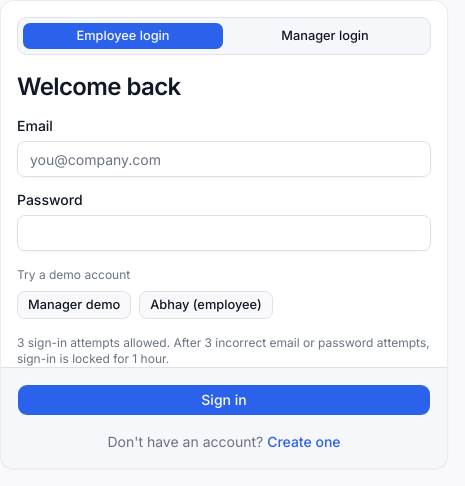
Test: <LoginForm /> › fills Abhay's employee demo credentials when selected
Click the button "Abhay (employee)" at (206, 305), box [139,291,273,319]
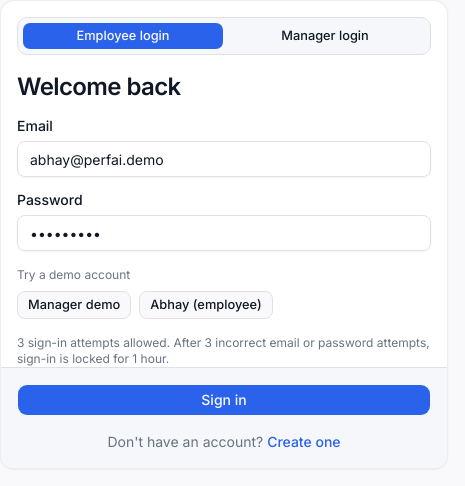
Check: the text "Welcome back" is shown, box [17,72,181,101]
Check: the field labelled "Email" holds "abhay@perfai.demo", box [17,141,431,177]
Check: the password field labelled "Password" holds "Password1", box [17,215,431,251]
